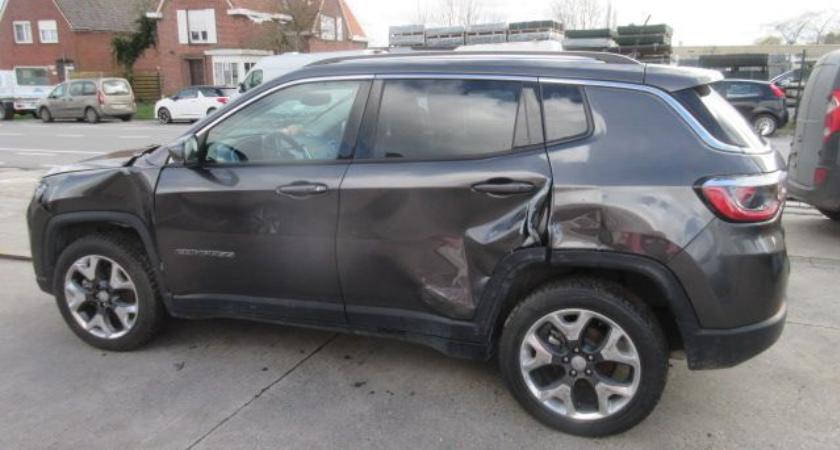Back-bumper: (548, 251, 788, 370), (665, 192, 790, 329)
Back-door: (335, 73, 552, 344)
Back-wheel: (498, 273, 669, 437)
Back-window: (373, 79, 522, 157), (540, 82, 588, 142)
Back-windshield: (672, 84, 767, 148)
Fender: (40, 167, 162, 262)
Front-bumper: (36, 210, 174, 309), (27, 197, 53, 276)
Front-door: (154, 74, 375, 323)
Front-wheel: (54, 225, 170, 352)
Front-window: (204, 80, 361, 160)
Headlight: (33, 182, 48, 203)
Hood: (44, 145, 161, 176)
Mirror: (167, 130, 209, 170)
Quarter-panel: (547, 146, 758, 265)
Rocker-panel: (168, 307, 490, 361)
Roof: (303, 51, 645, 83)
Tail-light: (693, 170, 788, 223)
Trunk: (644, 63, 787, 173)
